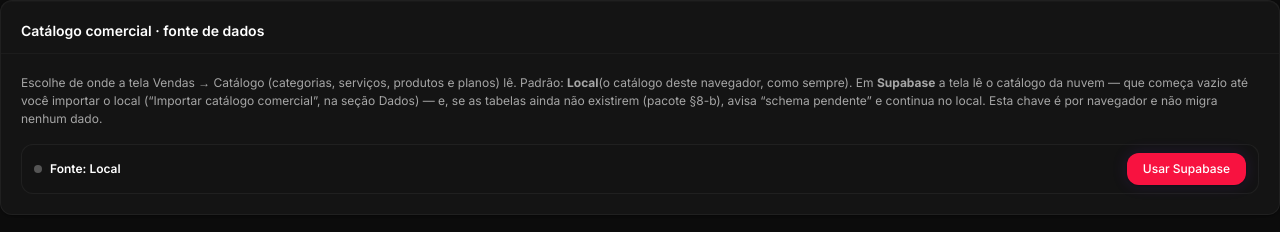
Test: CatalogSupabaseSourceToggleCard › padrão Local; 'Usar Supabase' grava a chave e muda o estado; 'Voltar para Local' desfaz
Expected: the text "Fonte: Local" is shown, [50,161,121,177]
What coordinates should you click on to do the following:
click the button "Usar Supabase"
I would click on:
 (1186, 169)
Its box is [1127,153,1246,185].
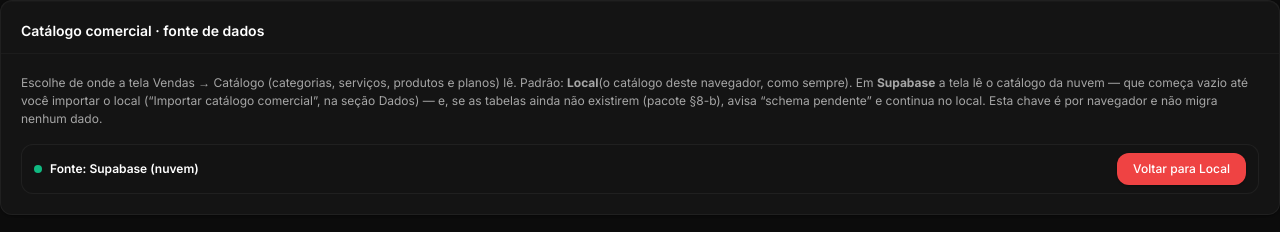
Now the text "Fonte: Supabase (nuvem)" is shown, box [50,161,199,177]
What coordinates should you click on to do the following:
click the button "Voltar para Local"
I would click on:
 (1182, 169)
Its box is [1117,153,1246,185].
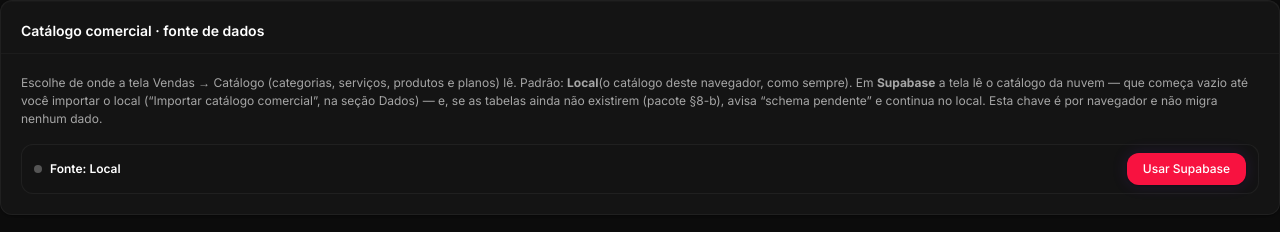
Now the text "Fonte: Local" is shown, box [50,161,121,177]
